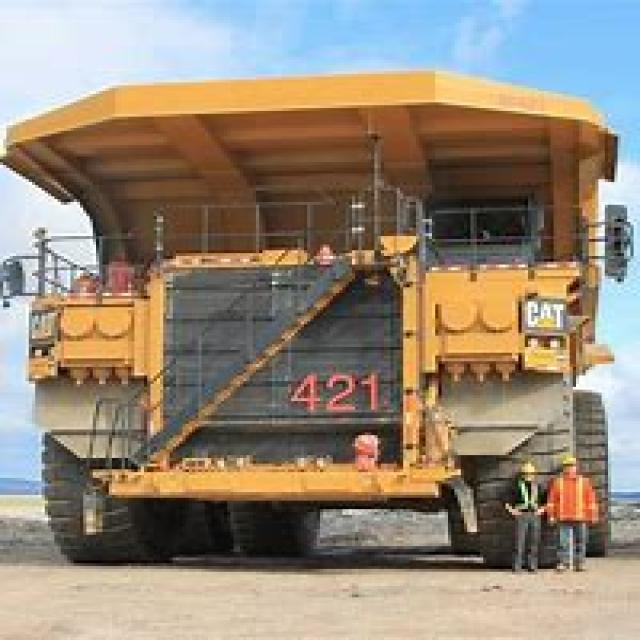dump_truck: (0, 54, 637, 575)
